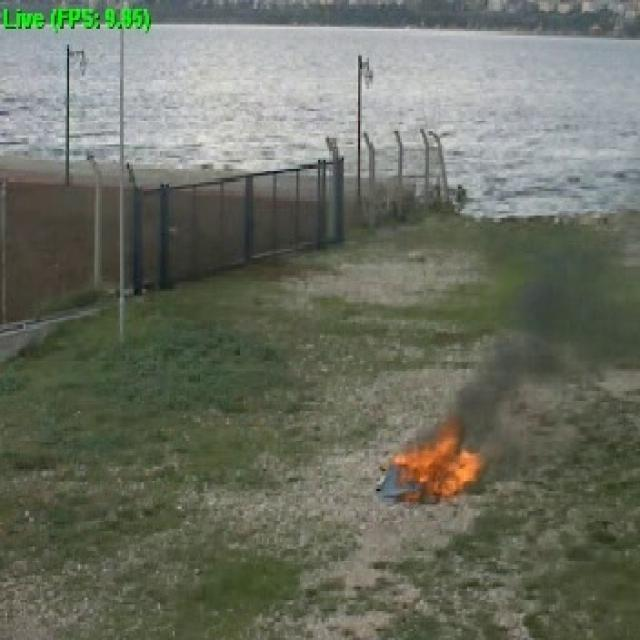fire: (391, 433, 486, 507)
smoke: (474, 292, 631, 398)
